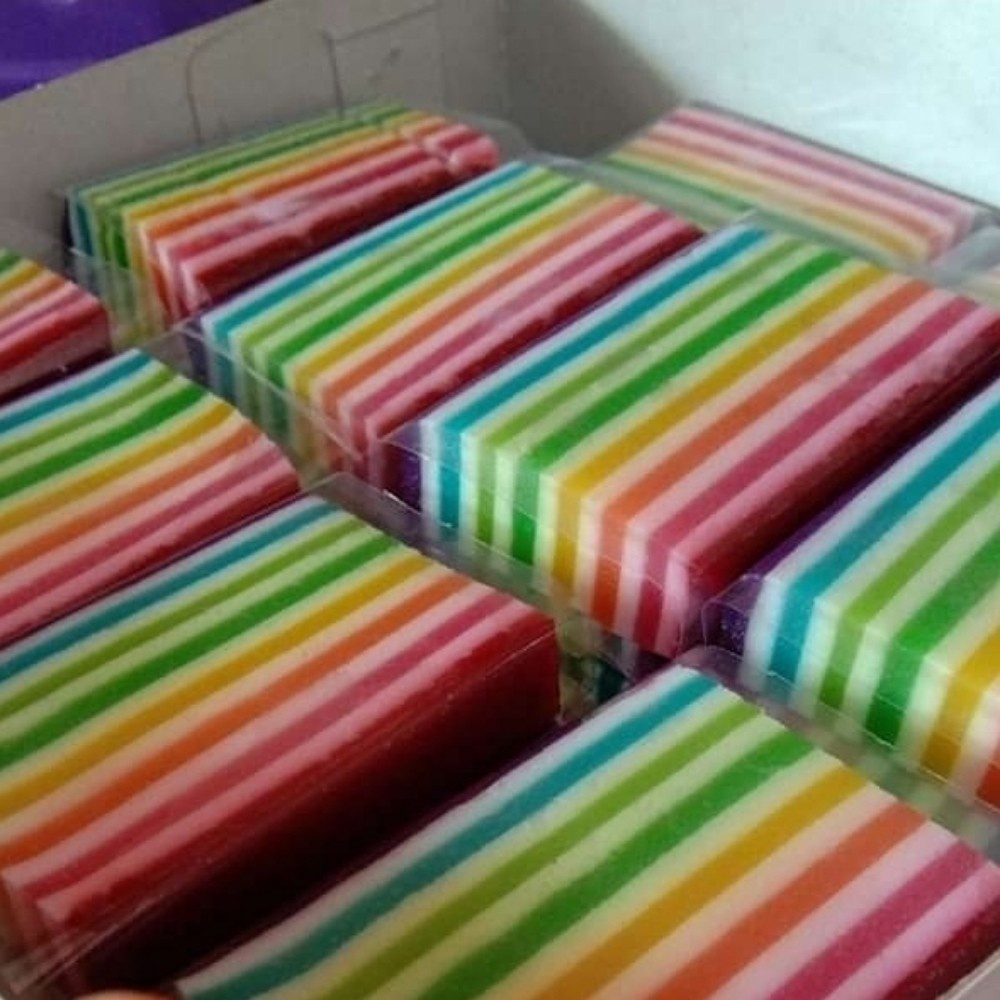kue_lapis_pelangi: (0, 489, 565, 988), (408, 210, 988, 656), (196, 156, 706, 474)
